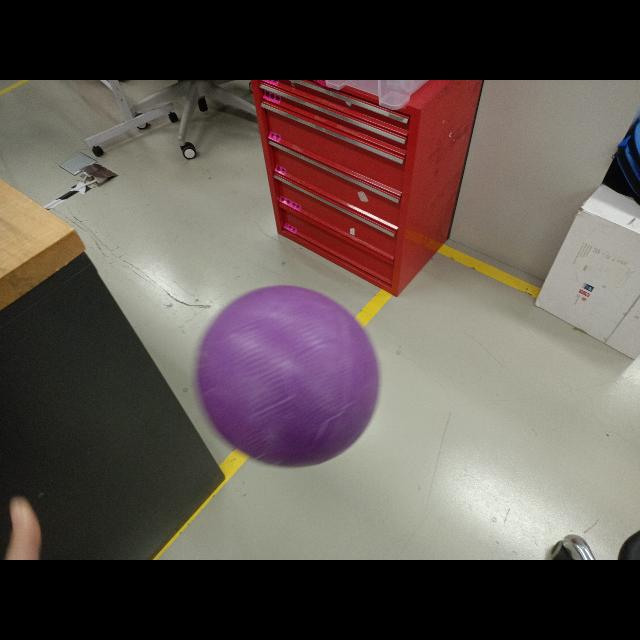P: (194, 286, 380, 469)
